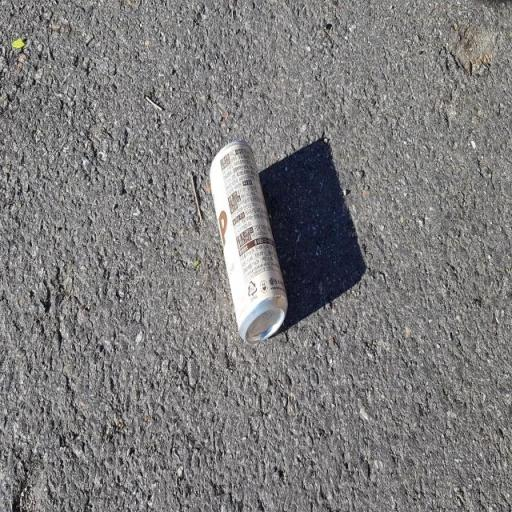metal: (202, 130, 292, 359)
